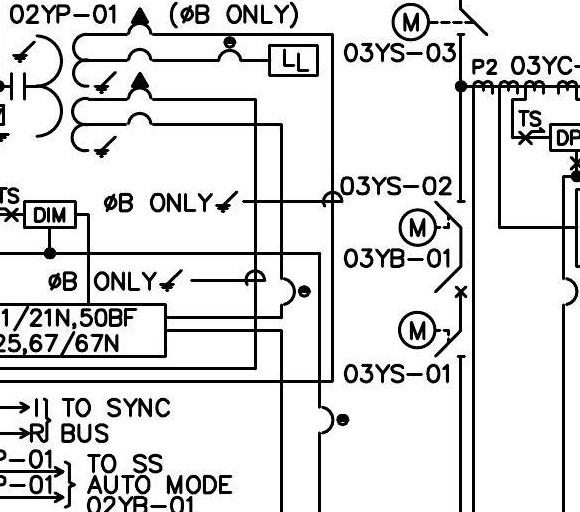115_1way_ds_w_motor: (390, 1, 489, 42), (397, 199, 466, 248), (397, 310, 466, 358)
115_breaker: (433, 265, 468, 298)
115_cvt_1p: (9, 6, 155, 159)
DIM: (23, 200, 77, 229)
LL: (268, 44, 319, 77)
